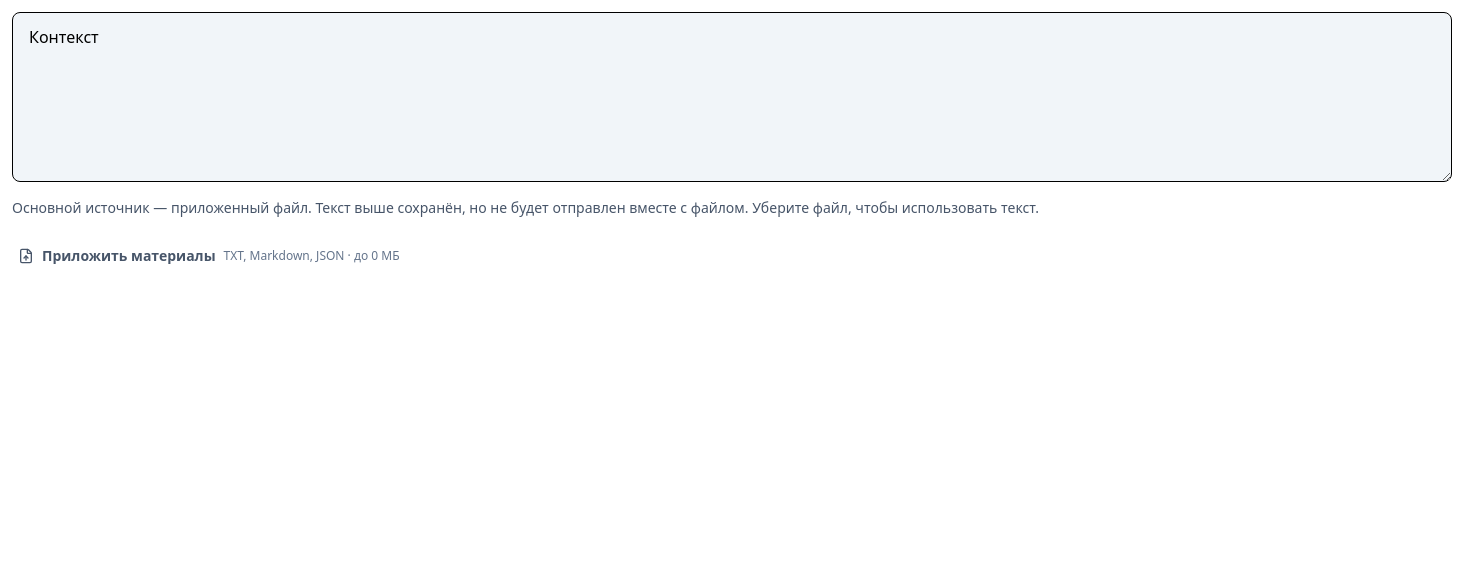
Scenario: disables text and attachment controls while busy
Click the text "Приложить материалы" at {"x": 129, "y": 256}, box [42,246,216,266]
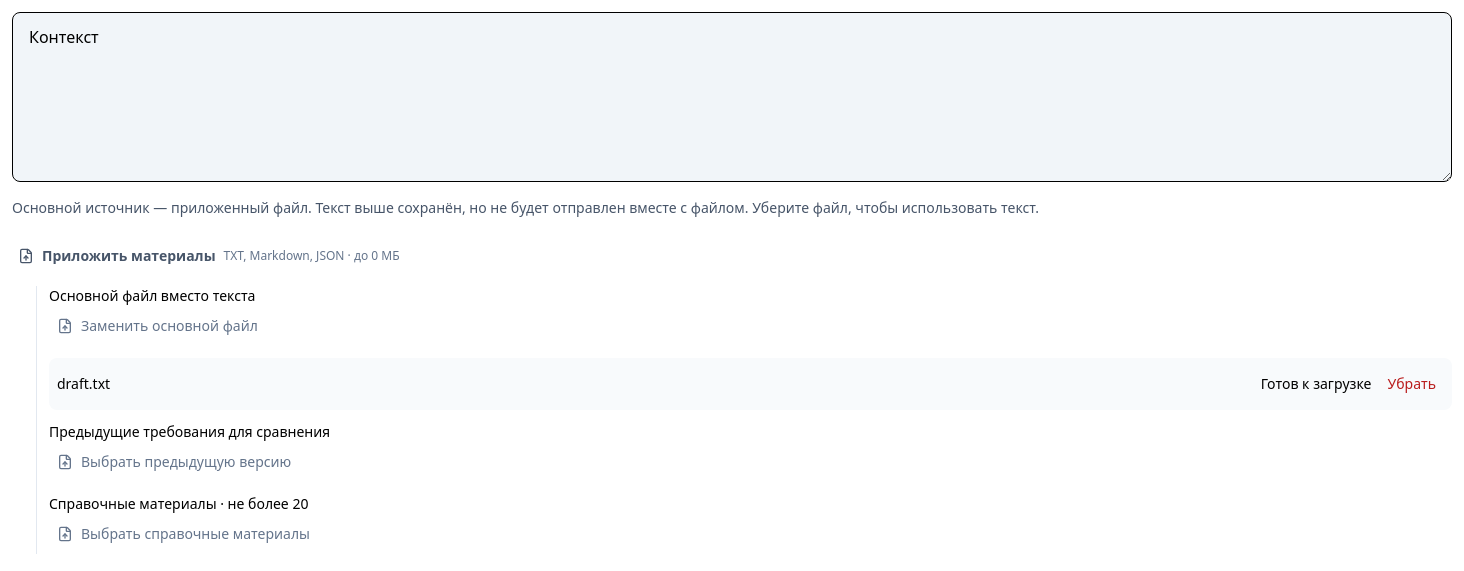
Expected: the text box named "Бизнес-контекст" is disabled, [12,12,1452,182]
Expected: the file field named "Файл требований" is disabled, [57,316,258,335]
Expected: the button with aria-label "Убрать draft.txt" is disabled, [1379,366,1444,402]
